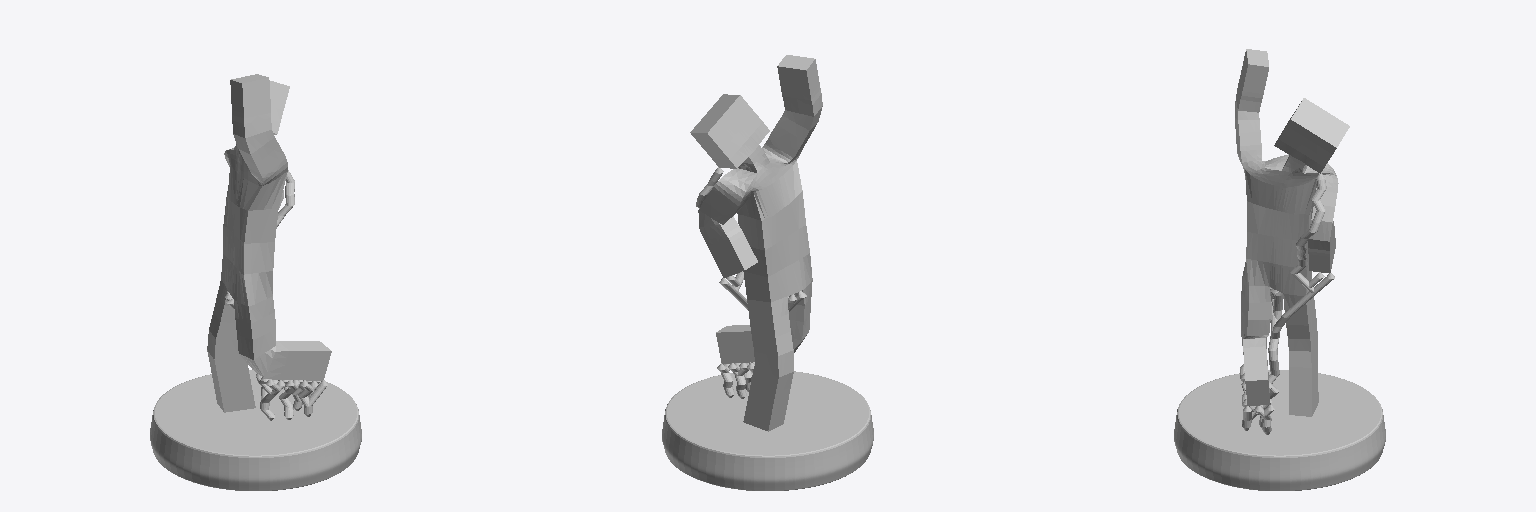
File: Test 3 Amiibo Print Ready.obj
3 renders of one model, left to right at view 1: azimuth 30°, elevation 25°; view 2: azimuth 150°, elevation 25°; view 3: azimuth 270°, elevation 25°, orthographic.
Parts seen in each view (by area): view 1: mmGroup0; view 2: mmGroup0; view 3: mmGroup0, mmGroup210.
Boxes of the visible parts, x1,y1,x2,y2 form: mmGroup0: [150, 74, 361, 490]; mmGroup0: [662, 55, 873, 490]; mmGroup0: [1174, 49, 1385, 490]; mmGroup210: [1290, 173, 1326, 287].
Bounding box in the file's own units: 45.72 × 91.43 × 45.72.